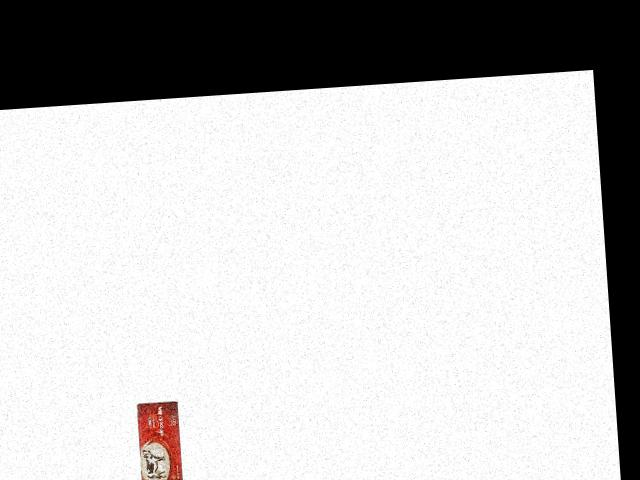chocolate: (136, 398, 185, 480)
